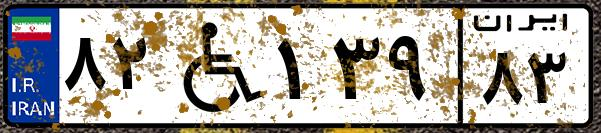1: (270, 28, 330, 110)
2: (110, 28, 158, 98)
3: (330, 28, 385, 110), (525, 38, 570, 115)
8: (57, 26, 110, 100), (475, 38, 525, 113)
9: (385, 28, 445, 110)
ژ (معلولین و جانبازان): (158, 12, 270, 120)
